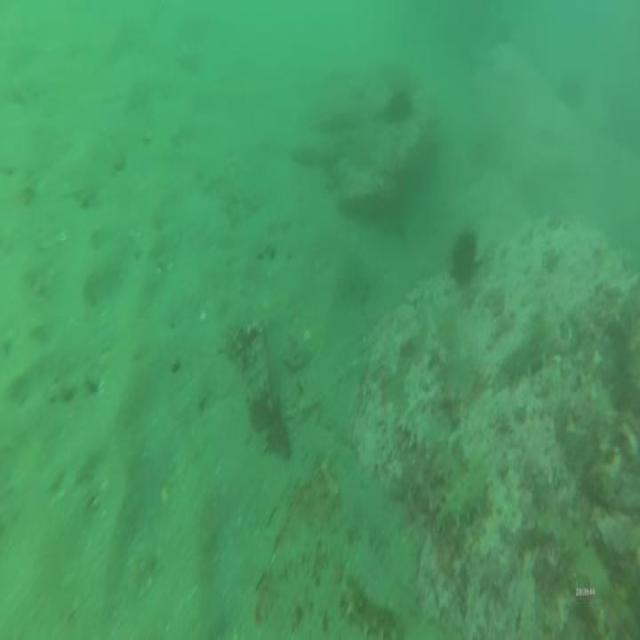echinus: (452, 224, 478, 284), (385, 87, 416, 126)
holothurian: (396, 398, 466, 485), (340, 569, 407, 640), (492, 321, 556, 390), (434, 471, 495, 532)
